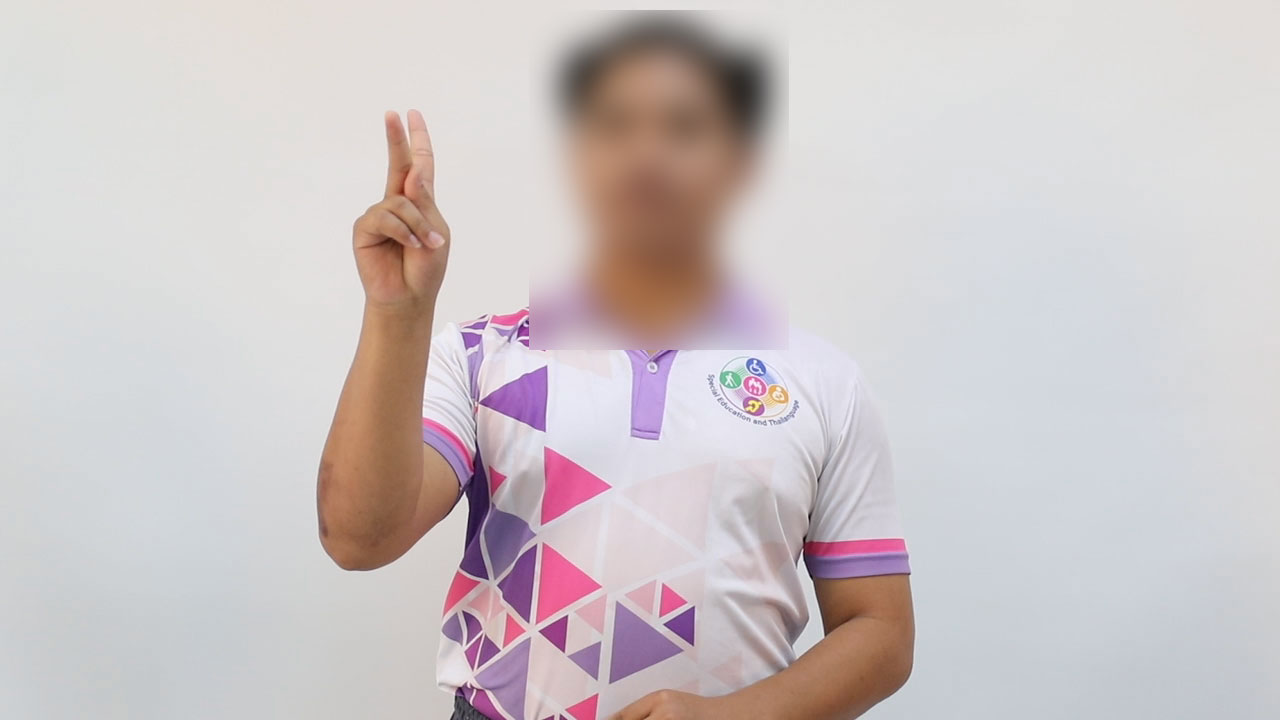ko: (338, 99, 457, 316)
